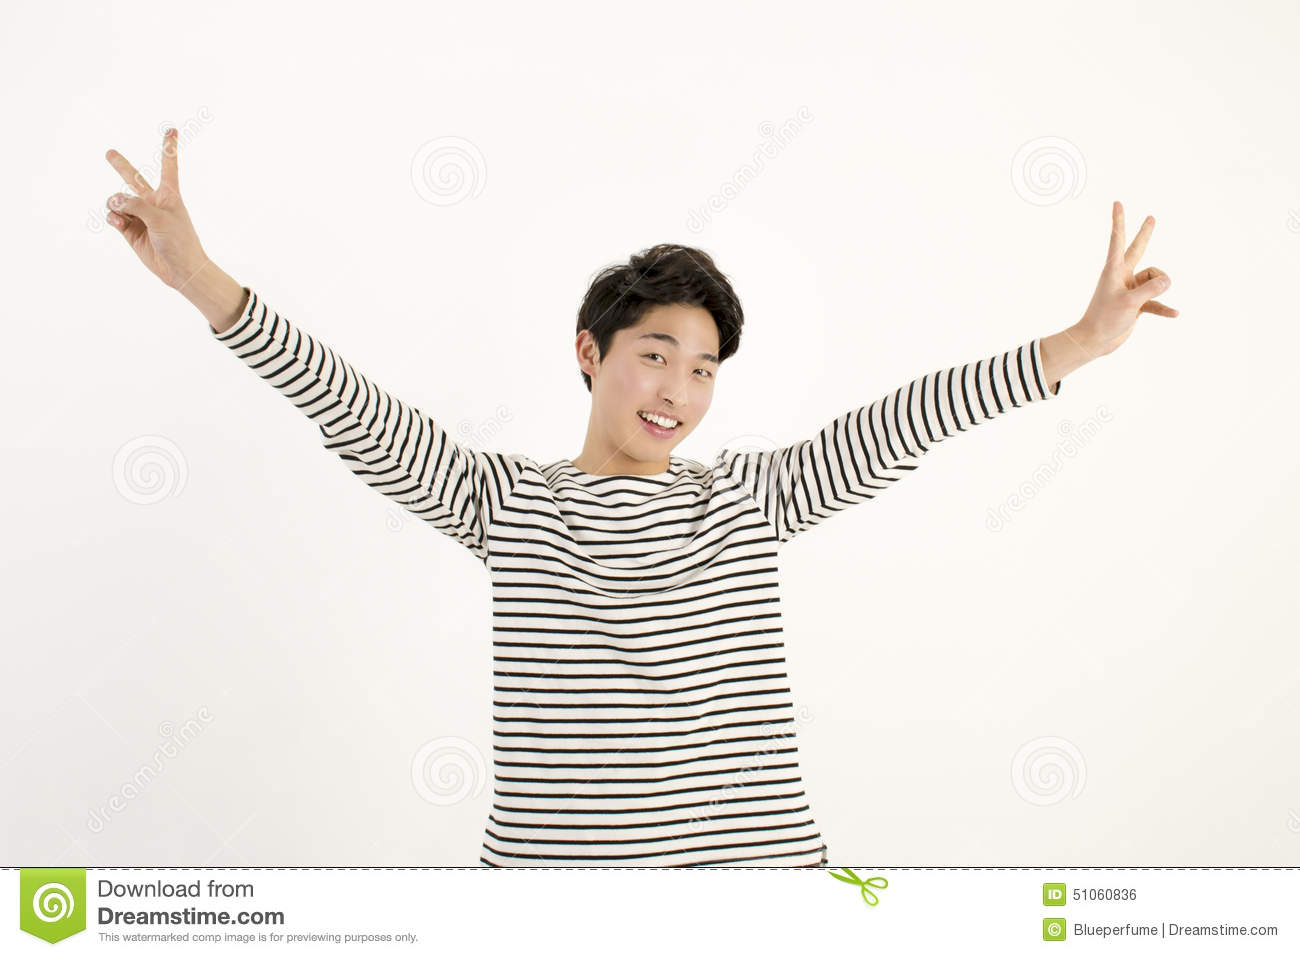face: (574, 301, 722, 463)
hand: (1083, 197, 1183, 371), (103, 124, 202, 294)
